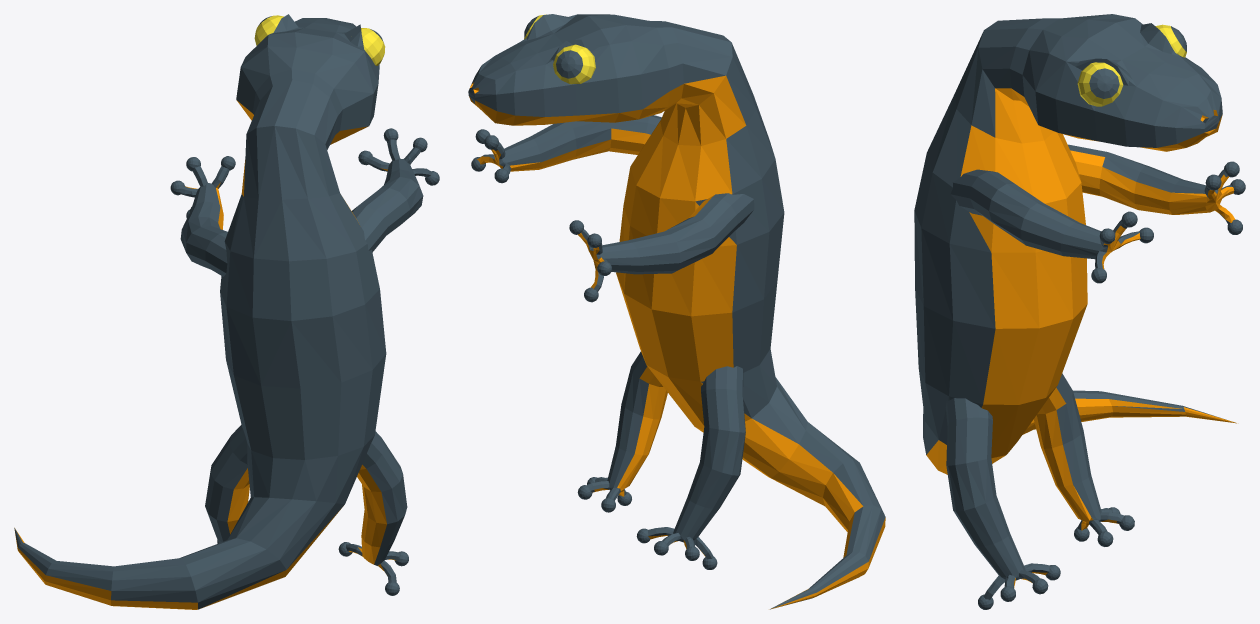
File: trilobite.glb
The picture shows the model from 3 angles, left to right: view 1: azimuth 30°, elevation 25°; view 2: azimuth 150°, elevation 25°; view 3: azimuth 270°, elevation 25°; orthographic projection. The views are drawn at different scales.
Parts seen in each view (by area): view 1: group535469083, group515132811; view 2: group535469083, group515132811; view 3: group535469083, group515132811.
Part boxes in pixels (x1=…): group535469083: x1=14, y1=14, x2=439, y2=609; group515132811: x1=254, y1=15, x2=385, y2=65; group535469083: x1=468, y1=14, x2=885, y2=609; group515132811: x1=524, y1=14, x2=595, y2=84; group535469083: x1=914, y1=14, x2=1245, y2=609; group515132811: x1=1077, y1=24, x2=1186, y2=106.
Bounding box in the file's own units: 2.45 × 3.13 × 1.65.
